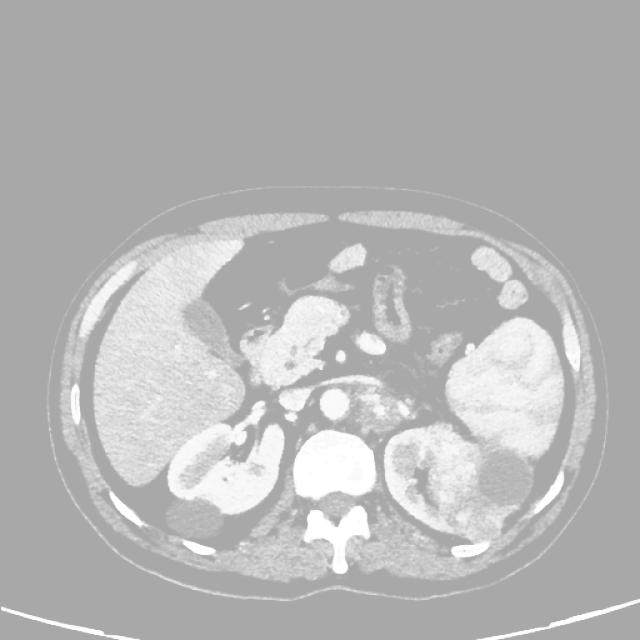TUMOR: (119, 231, 564, 538)
